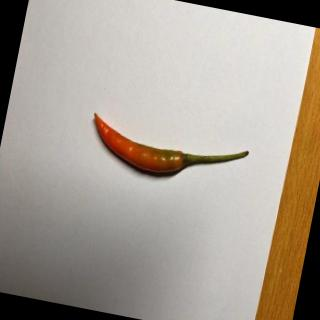Cabai Merah: (84, 112, 252, 191)
